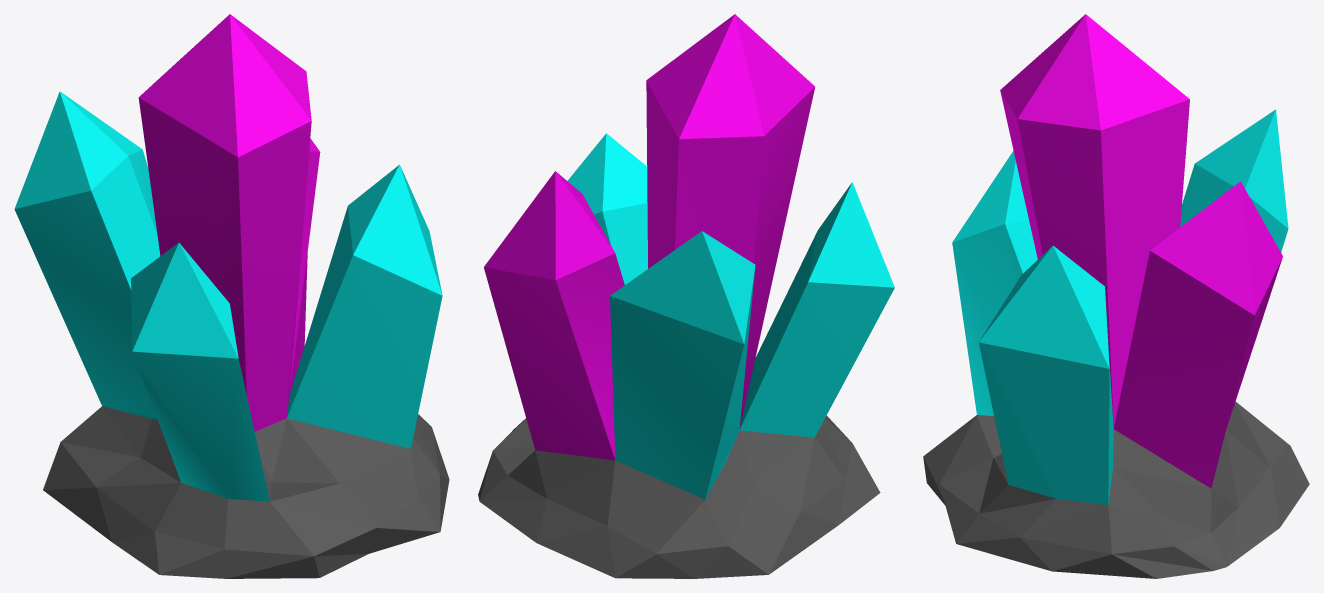
Rendered from CrystalCluster_1.fbx.
The picture shows the model from 3 angles, left to right: view 1: azimuth 30°, elevation 25°; view 2: azimuth 150°, elevation 25°; view 3: azimuth 270°, elevation 25°; orthographic projection. The views are drawn at different scales.
Parts seen in each view (by area): view 1: CrystalCluster_1; view 2: CrystalCluster_1; view 3: CrystalCluster_1.
Part boxes in pixels (box(x1,y1,x2,y2)): CrystalCluster_1: box(14, 14, 449, 578); CrystalCluster_1: box(478, 14, 894, 578); CrystalCluster_1: box(923, 14, 1309, 578).
Bounding box in the file's own units: 64.37 × 88.4 × 66.07.
